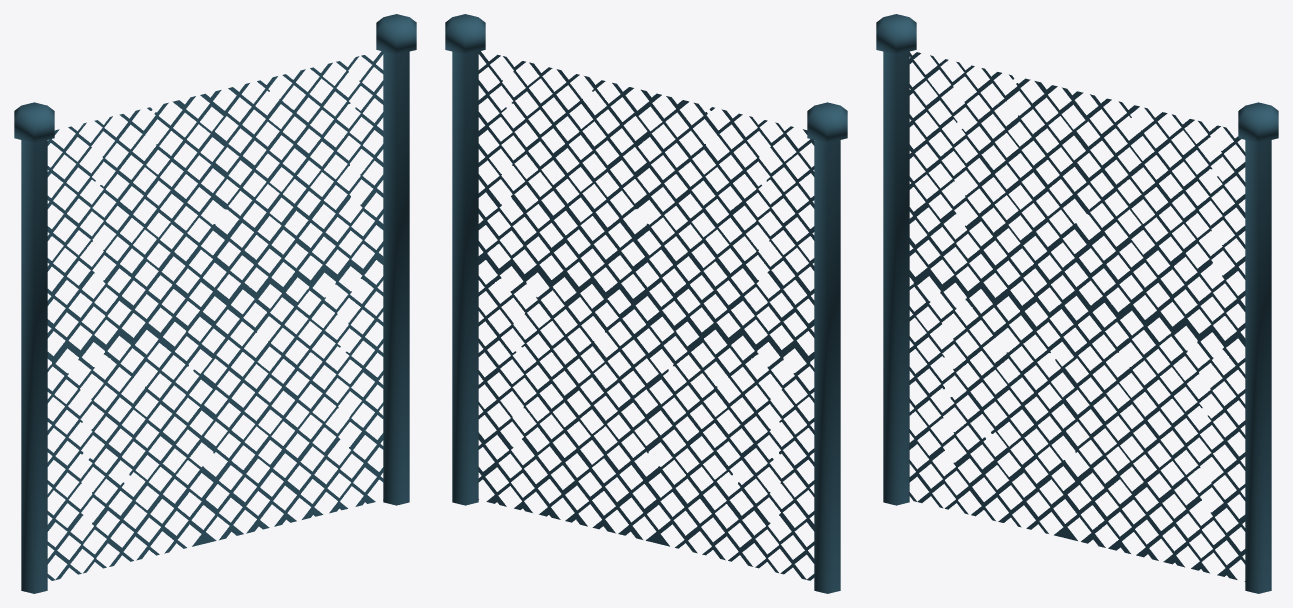
Rendered from ChainlinkfenceVar1.fbx.
The picture shows the model from 3 angles, left to right: view 1: azimuth 30°, elevation 25°; view 2: azimuth 150°, elevation 25°; view 3: azimuth 330°, elevation 25°; orthographic projection.
Parts seen in each view (by area): view 1: chainfence004; view 2: chainfence004; view 3: chainfence004.
Part boxes in pixels (<box>): chainfence004: <box>14,14,416,593</box>; chainfence004: <box>445,14,847,593</box>; chainfence004: <box>876,14,1278,593</box>.
Size of the model in its own units: 109 by 124 by 9.47.
